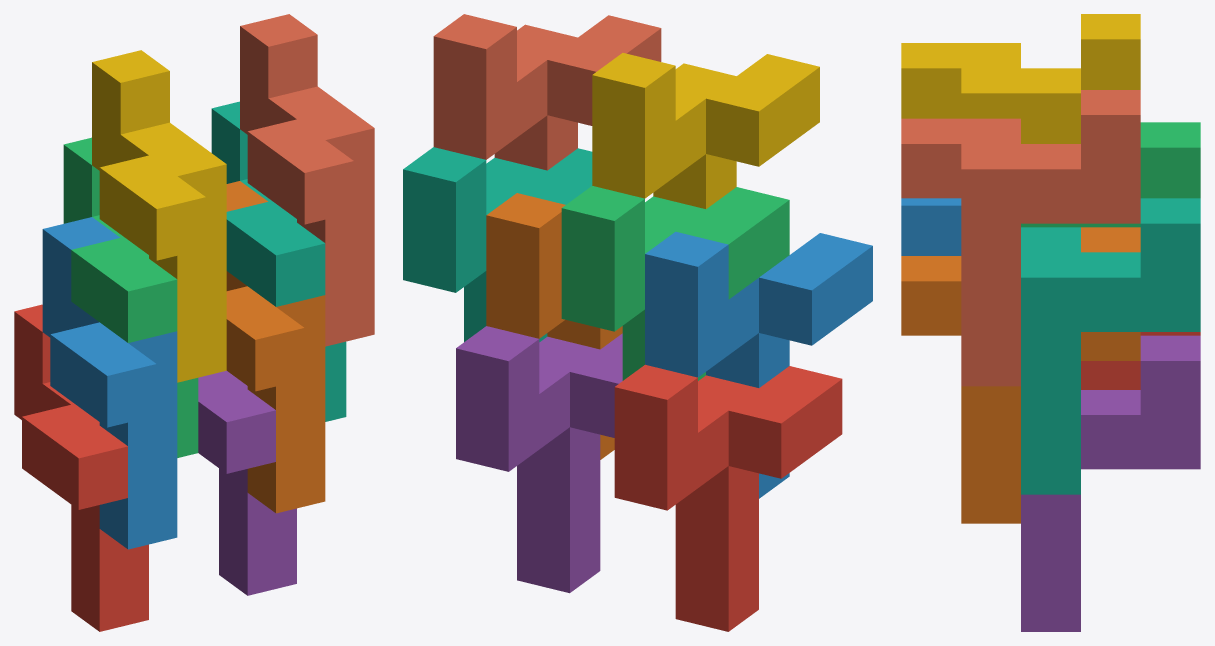
File: tiling.obj
3 renders of one model, left to right at view 1: azimuth 30°, elevation 25°; view 2: azimuth 150°, elevation 25°; view 3: azimuth 270°, elevation 25°, orthographic. The views are drawn at different scales.
Parts seen in each view (by area): view 1: copy_1_domain_4, copy_1_domain_8, copy_1_domain_2, copy_1_domain_1, copy_1_domain_6, copy_1_domain_5, copy_1_domain_3, copy_1_domain_7; view 2: copy_1_domain_1, copy_1_domain_5, copy_1_domain_4, copy_1_domain_2, copy_1_domain_8, copy_1_domain_3, copy_1_domain_7, copy_1_domain_6; view 3: copy_1_domain_8, copy_1_domain_7, copy_1_domain_5, copy_1_domain_4, copy_1_domain_6, copy_1_domain_3, copy_1_domain_2, copy_1_domain_1.
Boxes of the visible parts, box(x1,y1,x2,y2) form: copy_1_domain_4: box(92, 50, 226, 382); copy_1_domain_8: box(240, 14, 374, 346); copy_1_domain_2: box(42, 217, 177, 549); copy_1_domain_1: box(14, 304, 148, 631); copy_1_domain_6: box(226, 181, 325, 513); copy_1_domain_5: box(198, 370, 296, 595); copy_1_domain_3: box(63, 137, 198, 457); copy_1_domain_7: box(211, 101, 346, 421); copy_1_domain_1: box(614, 364, 842, 631); copy_1_domain_5: box(456, 326, 622, 593); copy_1_domain_4: box(592, 53, 819, 208); copy_1_domain_2: box(645, 231, 872, 498); copy_1_domain_8: box(433, 14, 661, 170); copy_1_domain_3: box(561, 186, 789, 380); copy_1_domain_7: box(403, 147, 592, 342); copy_1_domain_6: box(486, 193, 622, 459); copy_1_domain_8: box(901, 90, 1140, 386); copy_1_domain_7: box(1021, 198, 1200, 494); copy_1_domain_5: box(1021, 335, 1200, 631); copy_1_domain_4: box(901, 14, 1140, 143); copy_1_domain_6: box(901, 227, 1140, 523); copy_1_domain_3: box(1021, 122, 1200, 227); copy_1_domain_2: box(901, 198, 961, 255); copy_1_domain_1: box(1081, 332, 1200, 389).
Size of the model in its own units: 6 by 10 by 5.
